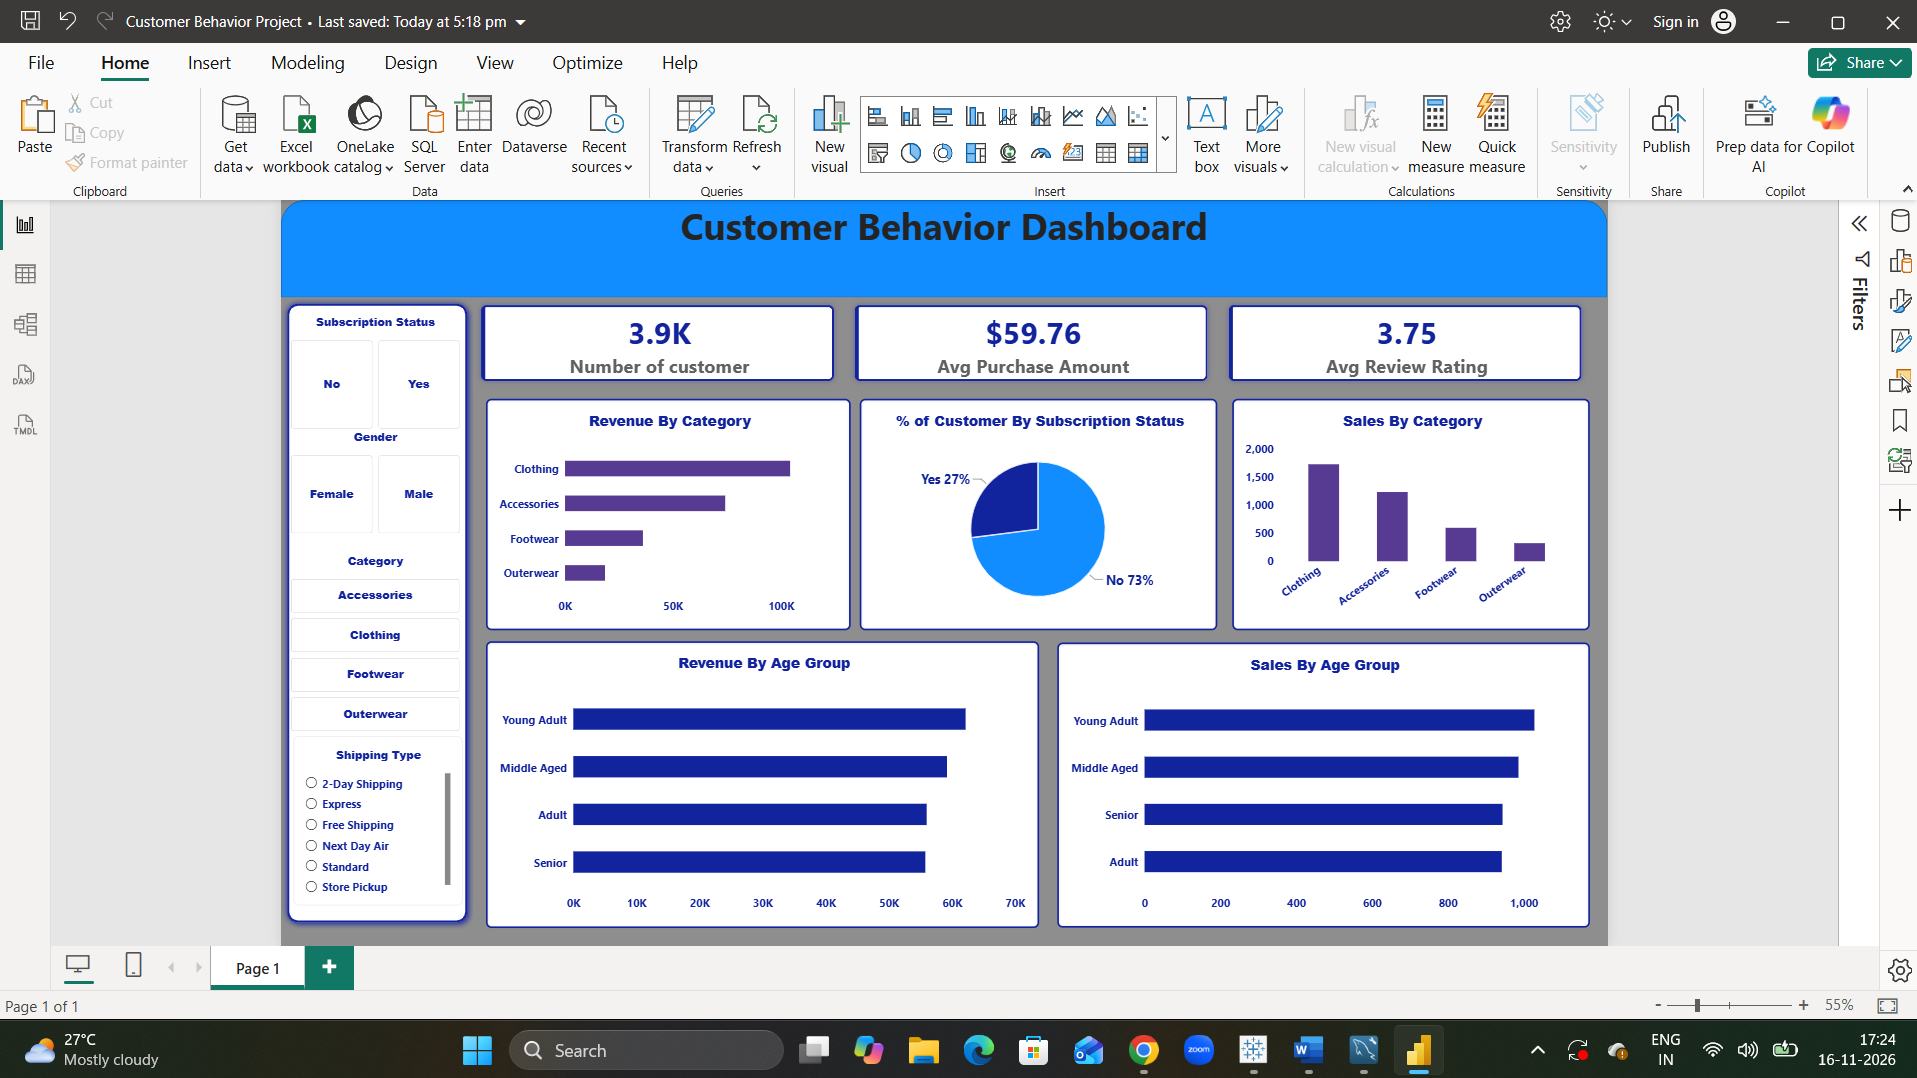

The dashboard page shown, as its layout file describes it:
{"tool":"powerbi","page":{"name":"Page 1","canvas":[1920,1080],"ordinal":0},"visuals":[{"type":"cardVisual","fields":{"Data":["customer_behaviour.Number of customer","customer_behaviour.Avg Purchase Amount","customer_behaviour.Avg Review Rating"]},"box":[279.2,140.7,1616.6,132],"z":0},{"type":"shape","box":[0,0,1920.1,141.2],"z":1000},{"type":"textbox","box":[0,0,1920.1,141.2],"z":2000},{"type":"pieChart","title":"% of Customer By Subscription Status","fields":{"Category":["customer_behaviour.subscription_status"],"Y":["CountNonNull(customer_behaviour.customer_id)"]},"box":[837.5,287.8,517.2,335.4],"z":4000},{"type":"clusteredBarChart","title":"Revenue By Category","fields":{"Category":["customer_behaviour.category"],"Y":["Sum(customer_behaviour.purchase_amount)"]},"box":[296.5,287.8,528.1,335.4],"z":5000},{"type":"clusteredColumnChart","title":"Sales By Category","fields":{"Category":["customer_behaviour.category"],"Y":["CountNonNull(customer_behaviour.customer_id)"]},"box":[1376.4,287.8,517.2,335.4],"z":7000},{"type":"shape","box":[0,141.2,278.7,913.9],"z":8000},{"type":"advancedSlicerVisual","title":"Subscription Status","fields":{"Values":["customer_behaviour.subscription_status"]},"box":[15.1,164.5,244.5,166.6],"z":9001},{"type":"advancedSlicerVisual","title":"Gender","fields":{"Values":["customer_behaviour.gender"]},"box":[15.1,331.1,244.5,151.5],"z":9002},{"type":"advancedSlicerVisual","title":"Category","fields":{"Values":["customer_behaviour.category"]},"box":[15.1,510.7,244.5,261.9],"z":9003},{"type":"listSlicer","title":"Shipping Type","fields":{"Values":["customer_behaviour.shipping_type"]},"box":[17.3,776.9,244.5,244.5],"z":9004},{"type":"clusteredBarChart","title":"Revenue By Age Group","fields":{"Category":["customer_behaviour.age_group"],"Y":["Sum(customer_behaviour.purchase_amount)"]},"box":[296.5,638.4,800.7,415.5],"z":9005},{"type":"clusteredBarChart","title":"Sales By Age Group","fields":{"Category":["customer_behaviour.age_group"],"Y":["CountNonNull(customer_behaviour.customer_id)"]},"box":[1123.2,640.6,770.9,412.6],"z":9006}]}

Visuals, with their boxes on the page's 1920x1080 design canvas (x1, y1, x2, y2). These are canvas units, not pixel positions in the 1917x1078 screenshot, which may show the page scaled, cropped or inside an application window:
cardVisual - customer_behaviour.Number of customer x customer_behaviour.Avg Purchase Amount: [x1=279, y1=141, x2=1896, y2=273]
shape: [x1=0, y1=0, x2=1920, y2=141]
textbox: [x1=0, y1=0, x2=1920, y2=141]
"% of Customer By Subscription Status" pieChart: [x1=838, y1=288, x2=1355, y2=623]
"Revenue By Category" clusteredBarChart: [x1=296, y1=288, x2=825, y2=623]
"Sales By Category" clusteredColumnChart: [x1=1376, y1=288, x2=1894, y2=623]
shape: [x1=0, y1=141, x2=279, y2=1055]
"Subscription Status" advancedSlicerVisual: [x1=15, y1=164, x2=260, y2=331]
"Gender" advancedSlicerVisual: [x1=15, y1=331, x2=260, y2=483]
"Category" advancedSlicerVisual: [x1=15, y1=511, x2=260, y2=773]
"Shipping Type" listSlicer: [x1=17, y1=777, x2=262, y2=1021]
"Revenue By Age Group" clusteredBarChart: [x1=296, y1=638, x2=1097, y2=1054]
"Sales By Age Group" clusteredBarChart: [x1=1123, y1=641, x2=1894, y2=1053]
